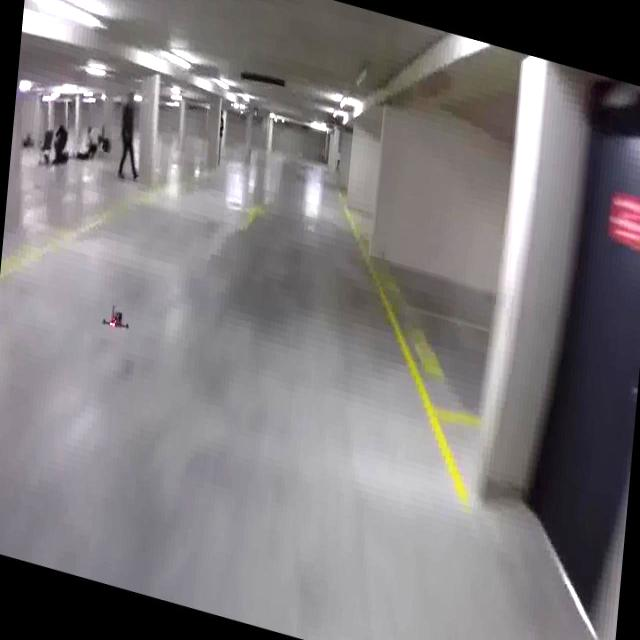drone: (99, 296, 133, 347)
